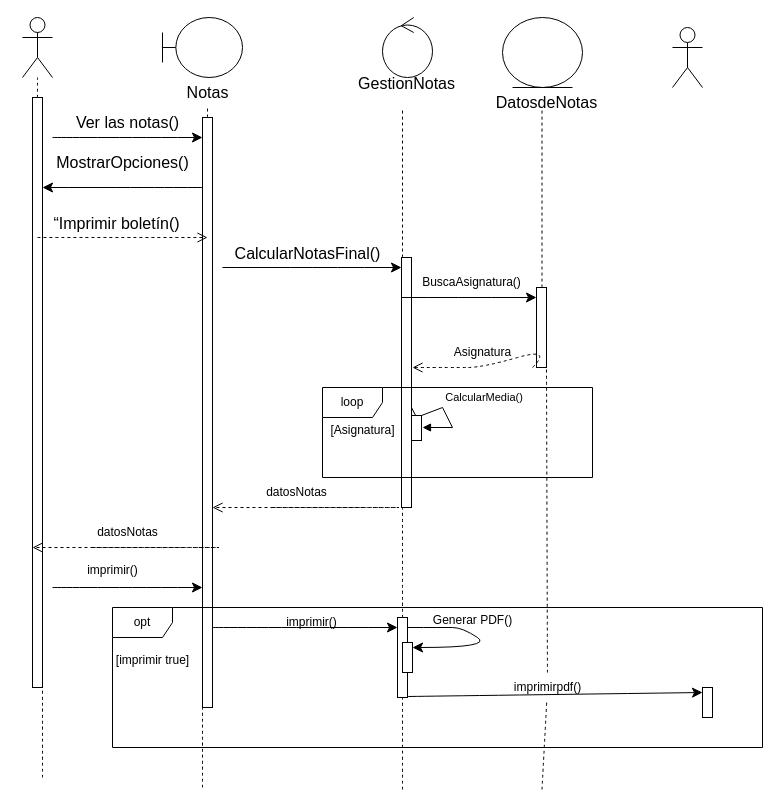
This 780x808 diagram has some shape labels left out. Each missing label, with the centre of its shape:
Alumno: the point at 37,47
Impresora: the point at 687,57
